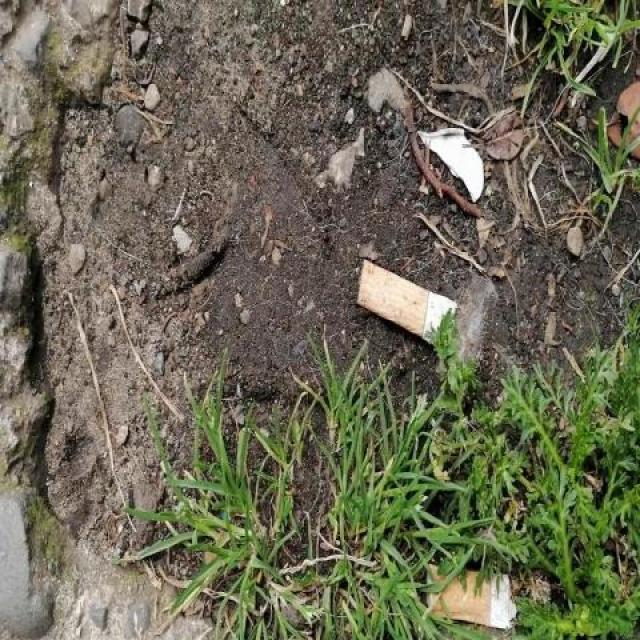non-organic waste: (352, 253, 460, 355), (423, 558, 521, 634)
